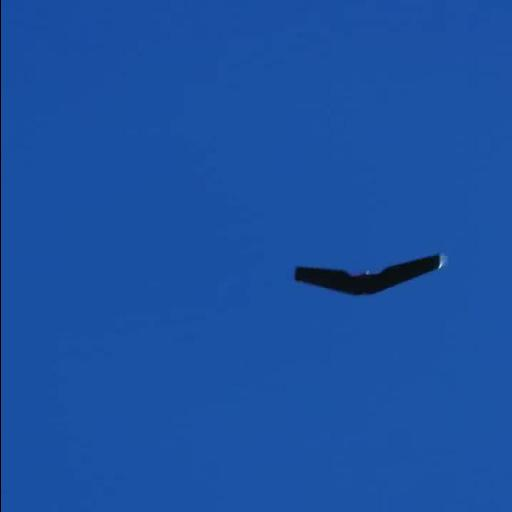uav: (283, 250, 456, 302)
